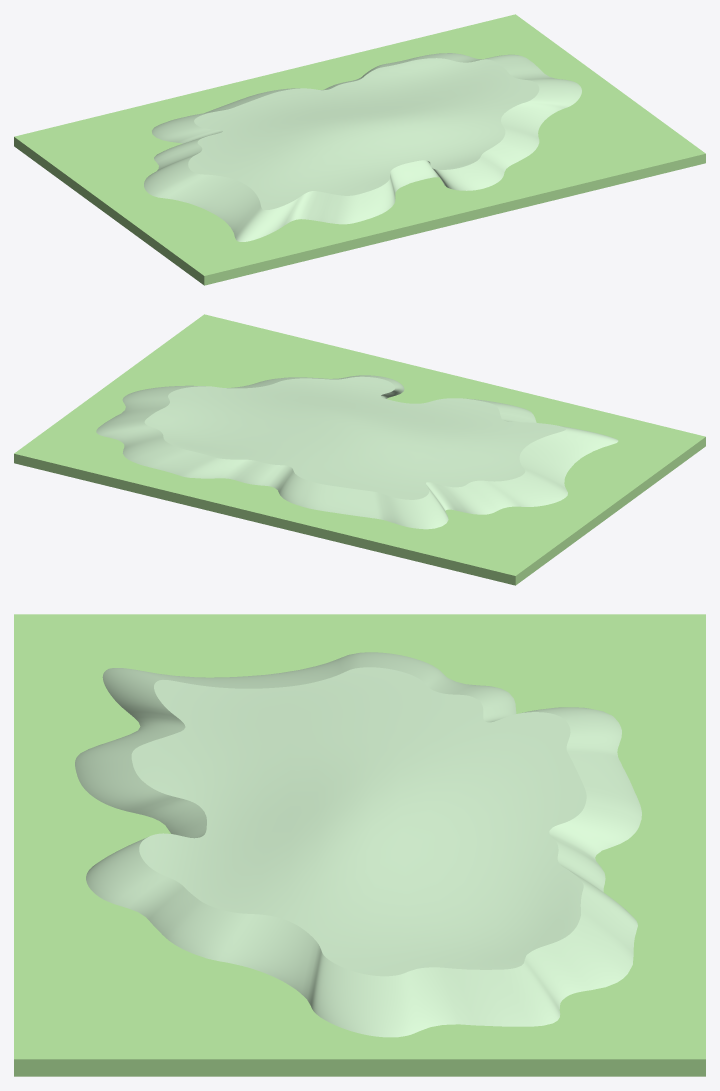
Rendered from flatGround.fbx.
3 views of the same model, one above another, from view 1: azimuth 30°, elevation 25°; view 2: azimuth 150°, elevation 25°; view 3: azimuth 270°, elevation 25° (orthographic). The views are drawn at different scales.
Parts seen in each view (by area): view 1: 物件_1, 物件_2; view 2: 物件_1, 物件_2; view 3: 物件_2, 物件_1.
Part boxes in pixels (x1,y1,x2,y2): 物件_1: (14,14,705,285); 物件_2: (144,53,581,241); 物件_1: (14,314,705,585); 物件_2: (96,375,618,529); 物件_2: (75,652,641,1037); 物件_1: (14,614,705,1076).
Size of the model in its own units: 5.17 by 0.314 by 3.4.
